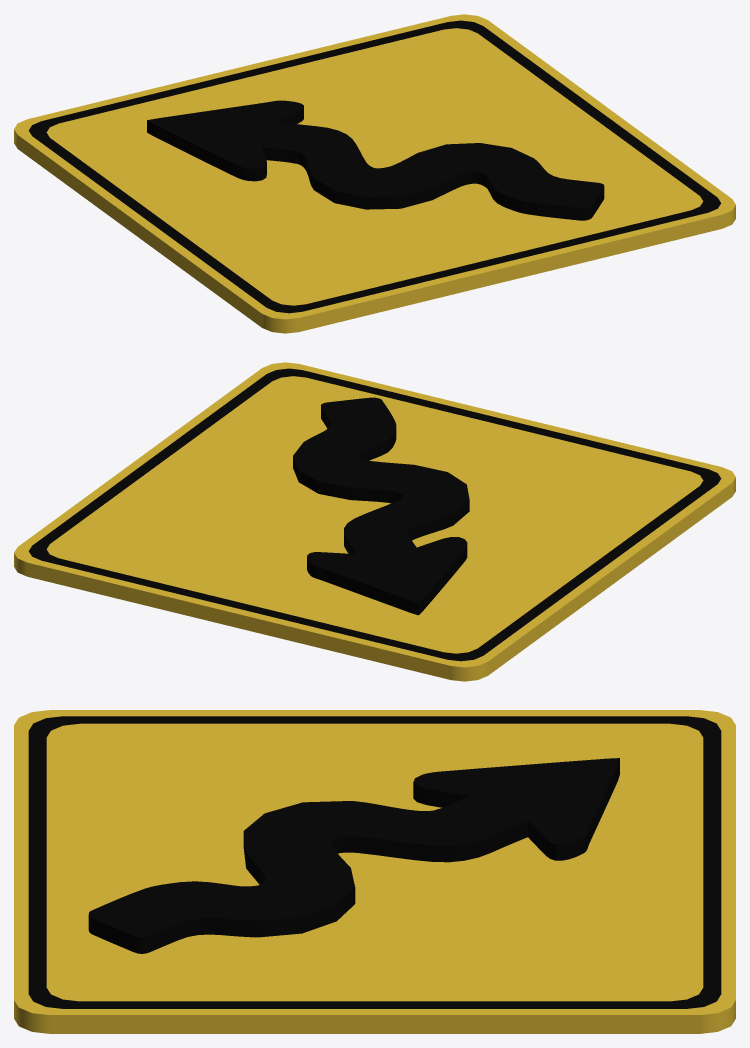
The model's file is right_winding_sign.fbx.
3 renders of one model, top to bottom at view 1: azimuth 30°, elevation 25°; view 2: azimuth 150°, elevation 25°; view 3: azimuth 270°, elevation 25°, orthographic. The views are drawn at different scales.
Parts seen in each view (by area): view 1: square_yellow_sign, RightWinding; view 2: square_yellow_sign, RightWinding; view 3: square_yellow_sign, RightWinding.
Part boxes in pixels (box(x1,y1,x2,y2)): square_yellow_sign: box(14, 14, 735, 333); RightWinding: box(147, 100, 604, 220); square_yellow_sign: box(14, 362, 735, 681); RightWinding: box(293, 397, 469, 615); square_yellow_sign: box(14, 710, 735, 1033); RightWinding: box(88, 758, 619, 953).
Size of the model in its own units: 70.96 by 3.83 by 70.96.
